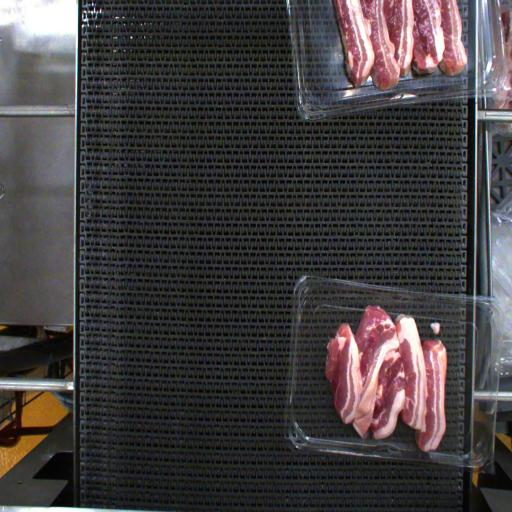loose-meat: (425, 319, 447, 338)
